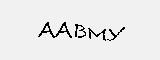А: (55, 18, 74, 43), (37, 17, 55, 42)
В: (73, 21, 87, 43)
М: (86, 23, 108, 45)
У: (107, 24, 127, 44)
